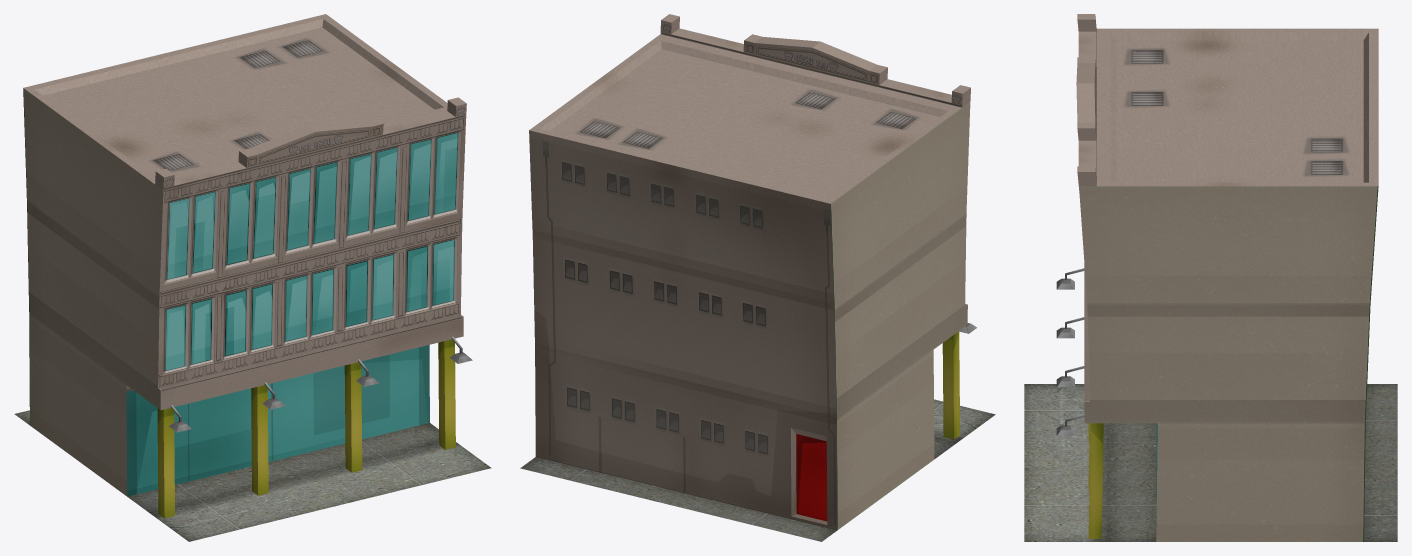
File: Office B.fbx
The picture shows the model from 3 angles, left to right: view 1: azimuth 30°, elevation 25°; view 2: azimuth 150°, elevation 25°; view 3: azimuth 270°, elevation 25°; orthographic projection. The views are drawn at different scales.
Visible parts, largest first — view 1: office_B; view 2: office_B; view 3: office_B.
Part boxes in pixels (x1,y1,x2,y2): office_B: (14,14,491,541); office_B: (520,14,995,541); office_B: (1024,14,1397,541).
Size of the model in its own units: 10 by 11.21 by 10.
1 material, 1 textured.
